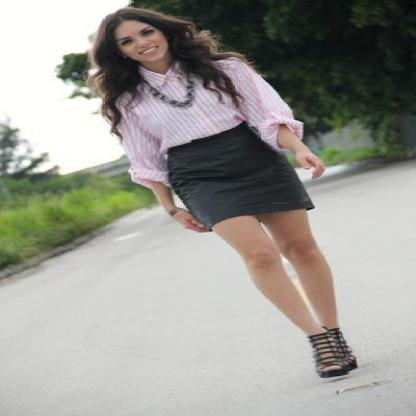shirt: (117, 52, 302, 191)
shoe: (308, 327, 357, 377)
skirt: (165, 124, 314, 232)
